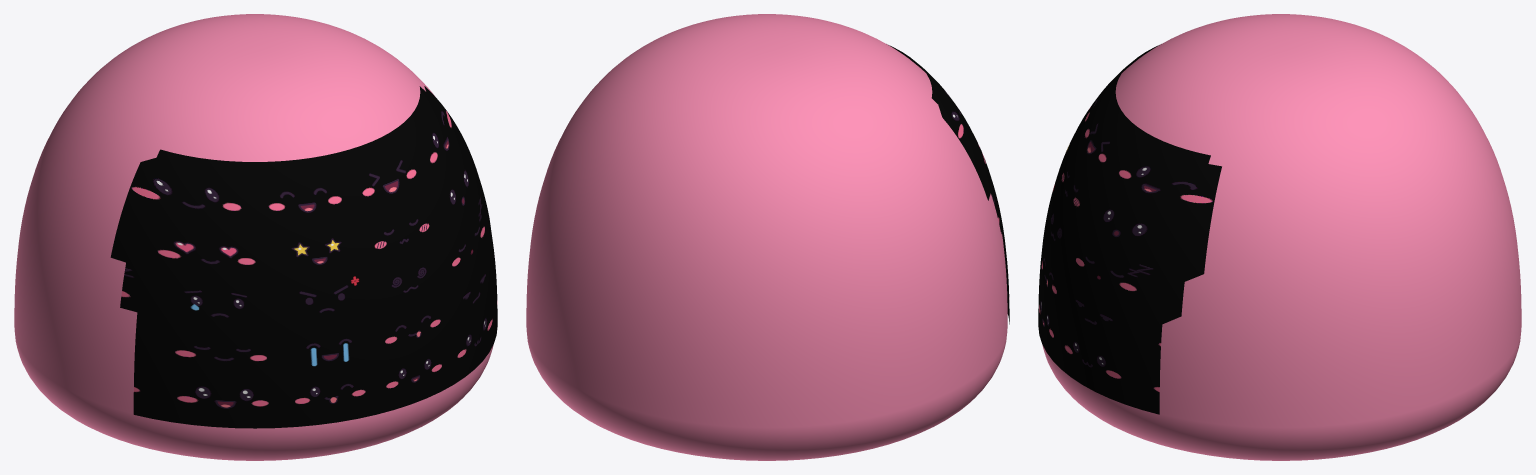
File: DomeSlime.obj
The picture shows the model from 3 angles, left to right: view 1: azimuth 30°, elevation 25°; view 2: azimuth 150°, elevation 25°; view 3: azimuth 270°, elevation 25°; orthographic projection.
Parts seen in each view (by area): view 1: DomeSlime; view 2: DomeSlime; view 3: DomeSlime.
Part boxes in pixels (box(x1,y1,x2,y2)): DomeSlime: box(14, 14, 497, 460); DomeSlime: box(526, 14, 1009, 460); DomeSlime: box(1038, 14, 1521, 460).
Bounding box in the file's own units: 1 × 0.7768 × 1.
